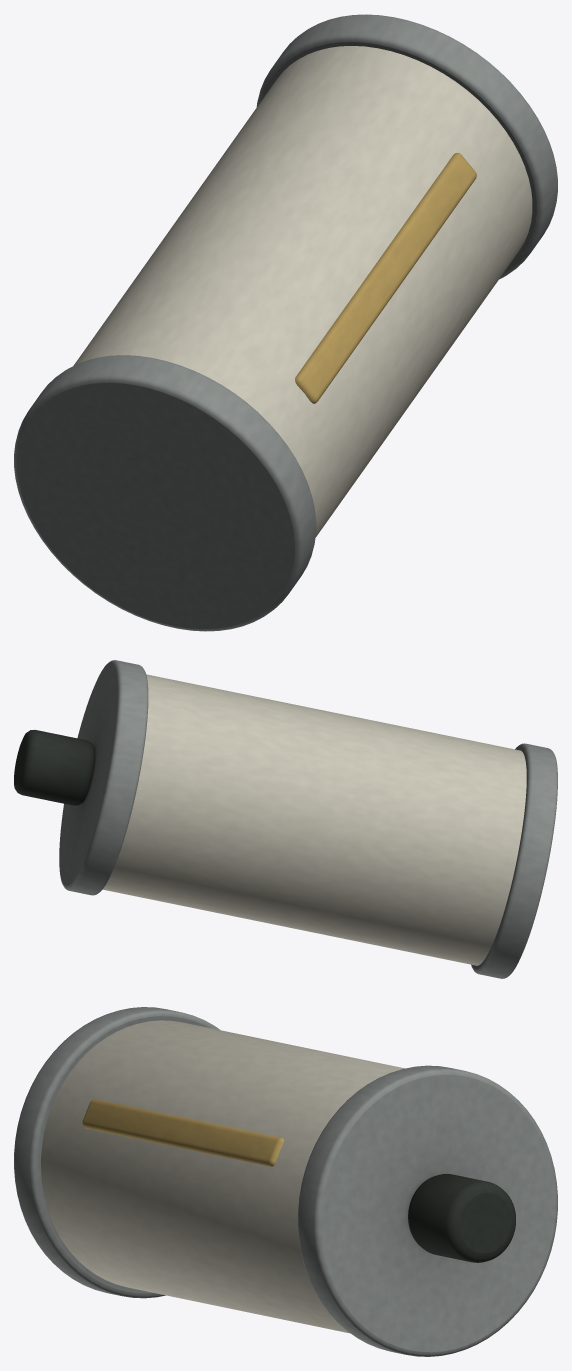
The picture shows the model from 3 angles, top to bottom: view 1: azimuth 30°, elevation 25°; view 2: azimuth 150°, elevation 25°; view 3: azimuth 270°, elevation 25°; orthographic projection. The views are drawn at different scales.
Parts seen in each view (by area): view 1: Cartridge body; view 2: Cartridge body; view 3: Cartridge body.
Part boxes in pixels (x1=…): Cartridge body: x1=14, y1=14, x2=557, y2=631; Cartridge body: x1=14, y1=660, x2=557, y2=978; Cartridge body: x1=14, y1=1007, x2=557, y2=1356.
Size of the model in its own units: 1.29 by 0.8649 by 1.13.
1 material, 1 textured.
